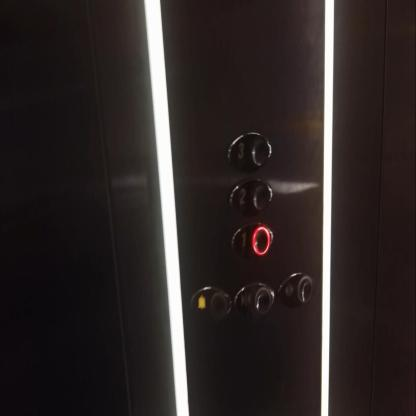1: (229, 219, 276, 260)
2: (227, 175, 275, 216)
3: (226, 130, 273, 172)
alarm: (186, 284, 233, 325)
close: (232, 278, 276, 319)
open: (276, 269, 318, 309)
